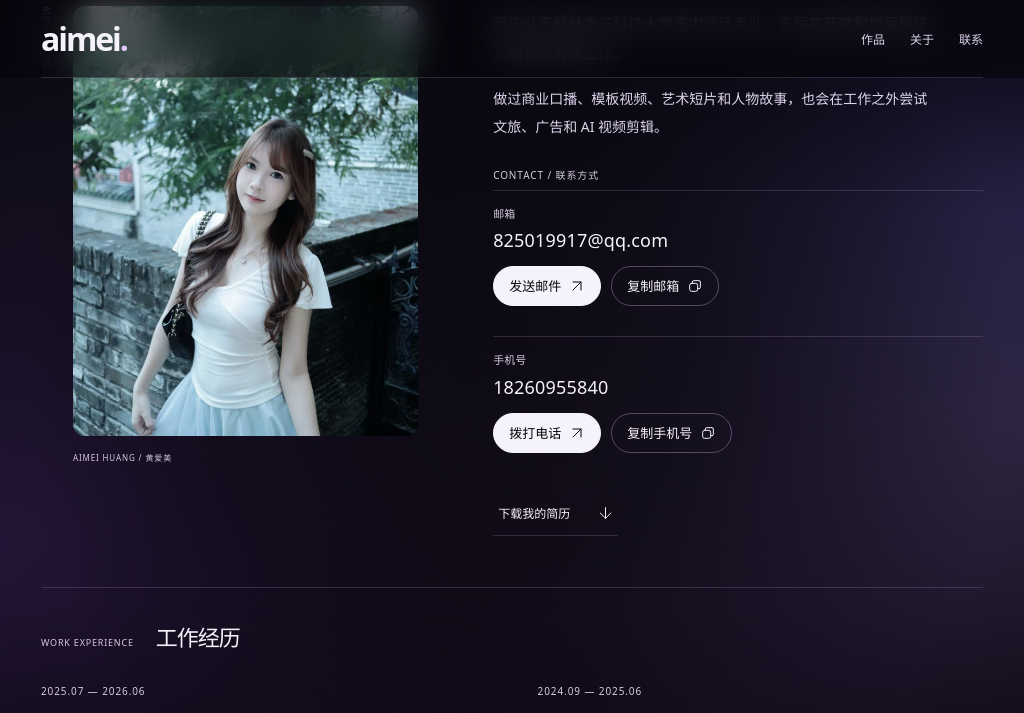
求职联系 › 邮箱与手机分别联系、分别复制，反馈互不干扰
(page scrolled)
Click the button "复制手机号". click: (672, 433)
box: [611,413,732,453]
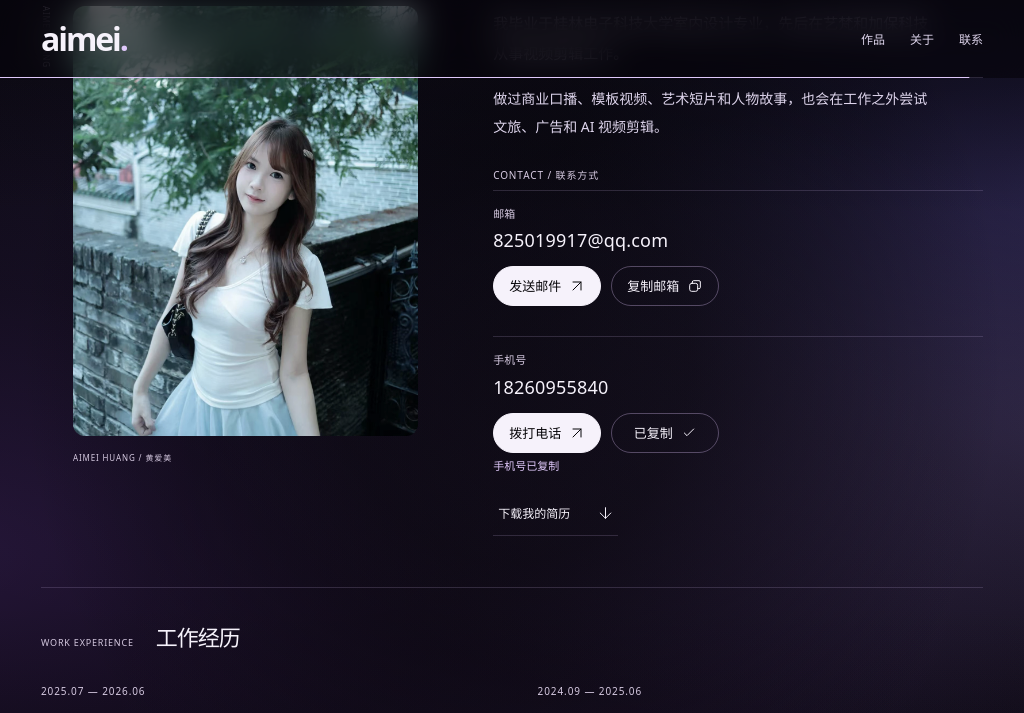
Now the text "手机号已复制" is shown, box [493,458,559,473]
Click the button "复制邮箱". click: (665, 286)
box: [611,266,719,306]
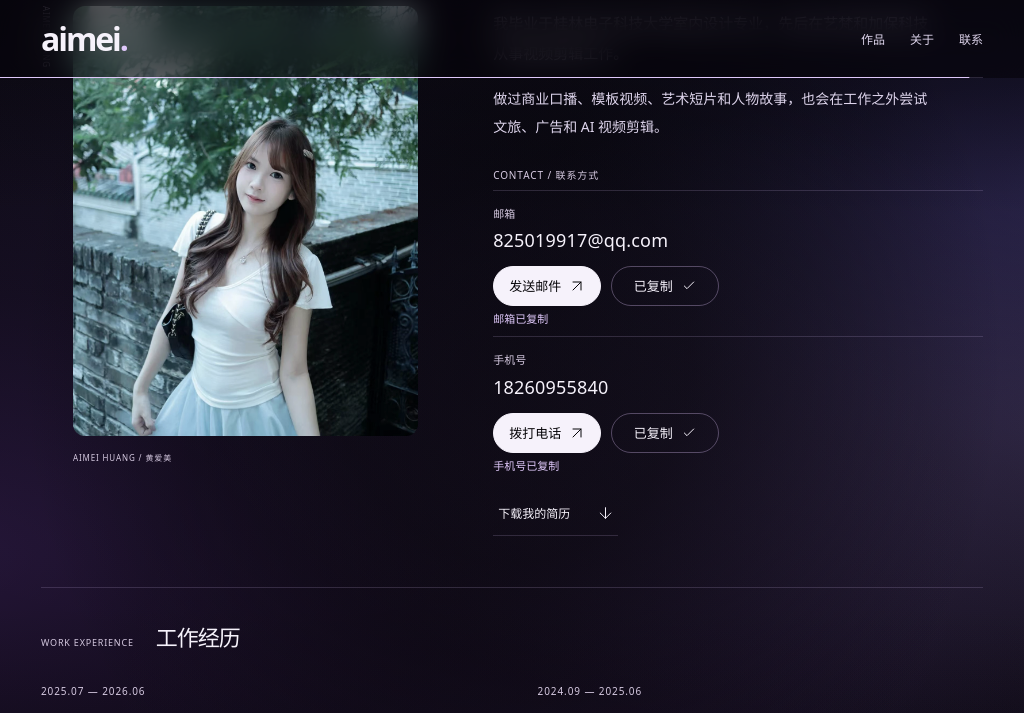
Now the text "手机号已复制" is shown, box [493,458,559,473]
Now the text "邮箱已复制" is shown, box [493,311,548,326]
